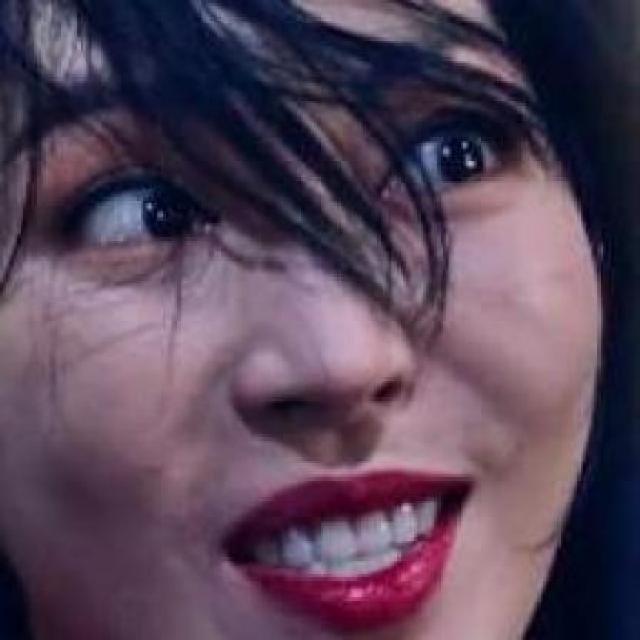angry: (37, 71, 572, 640)
